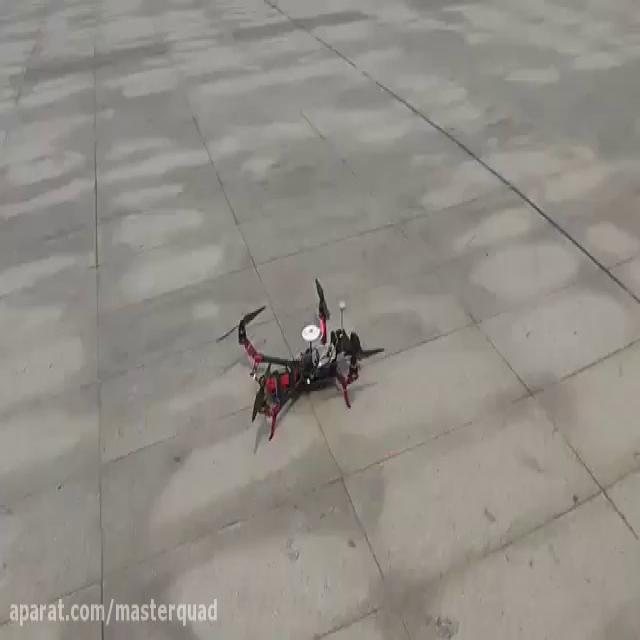drone: (213, 272, 386, 441)
